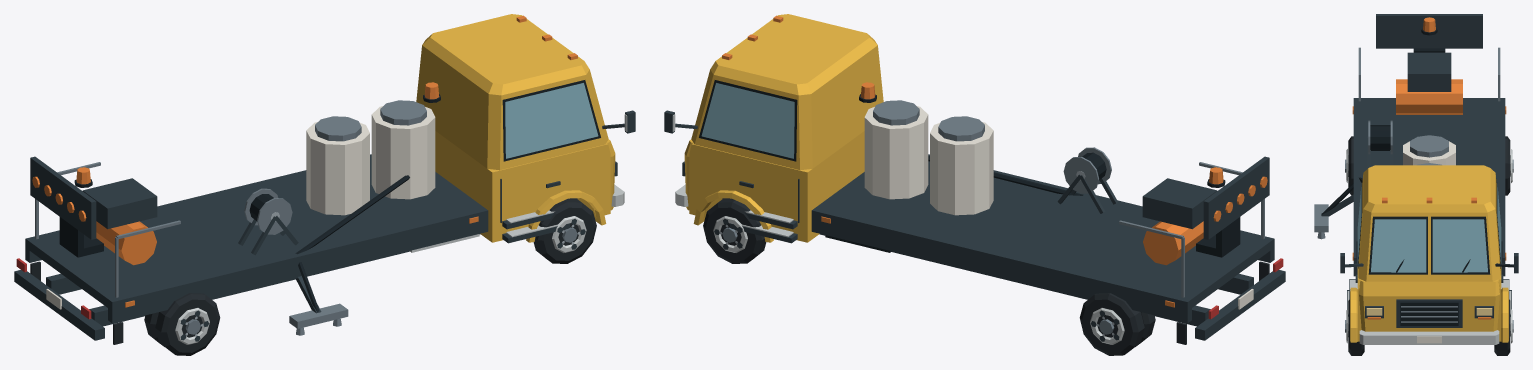
File: b15_street_marking_truck.glb
The picture shows the model from 3 angles, left to right: view 1: azimuth 30°, elevation 25°; view 2: azimuth 150°, elevation 25°; view 3: azimuth 270°, elevation 25°; orthographic projection. The views are drawn at different scales.
Visible parts, largest first — view 1: b15_street_marking_truck; view 2: b15_street_marking_truck; view 3: b15_street_marking_truck.
Part boxes in pixels (bbox=[...]): b15_street_marking_truck: bbox=[14, 14, 635, 355]; b15_street_marking_truck: bbox=[664, 14, 1285, 355]; b15_street_marking_truck: bbox=[1314, 14, 1518, 355].
Bounding box in the file's own units: 8.68 × 2.93 × 3.29.
